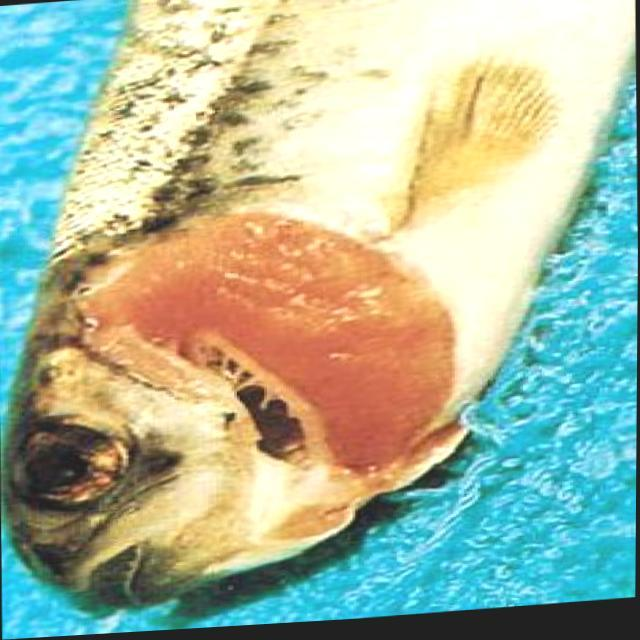Gill Disease: (7, 208, 534, 602)
